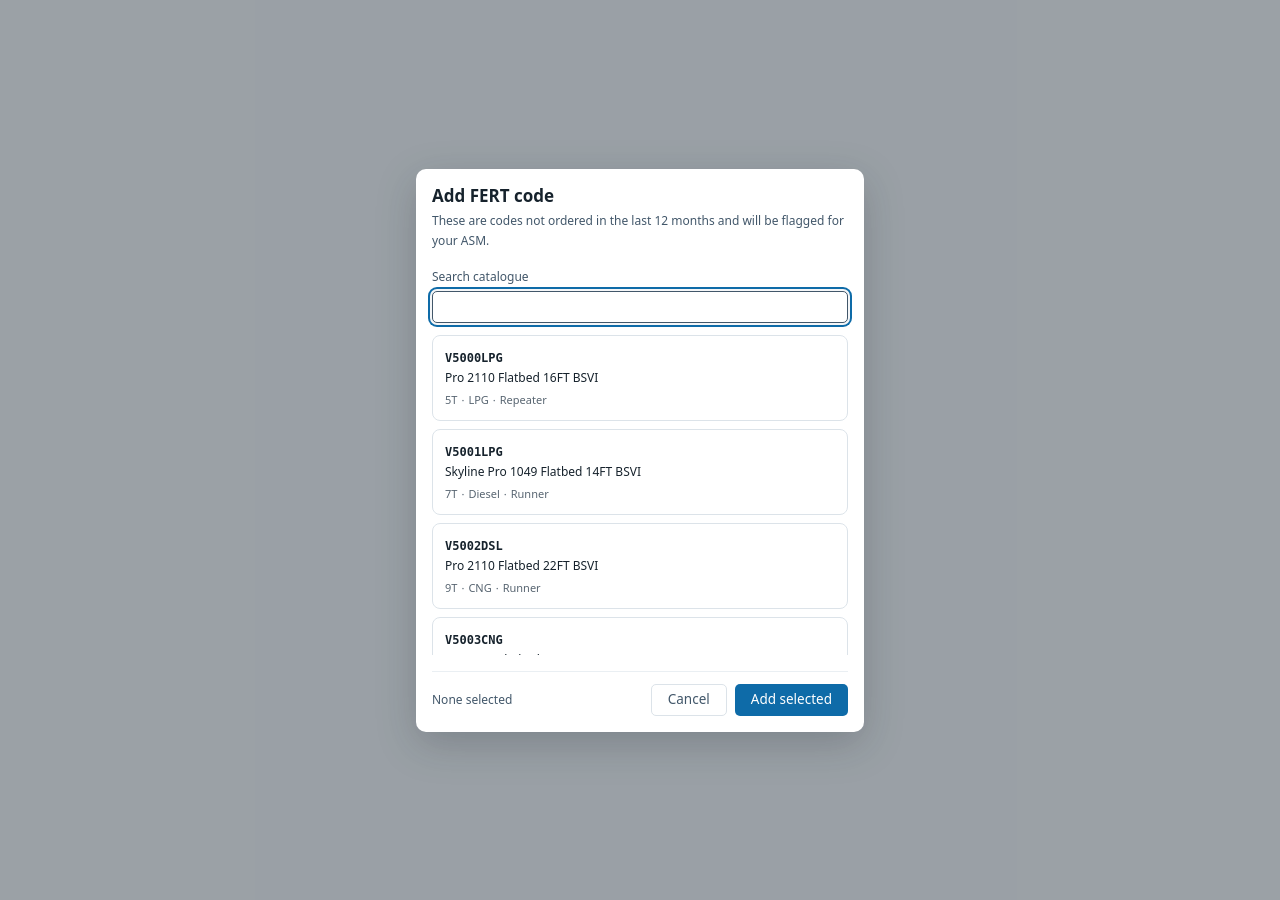
Test case: AddFertModal › toggles catalogue rows and updates the selected counter
Click the button "V5000LPG Pro 2110 Flatbed 16FT BSVI 5T · LPG · Repeater" at (474, 358), box [432, 334, 848, 420]
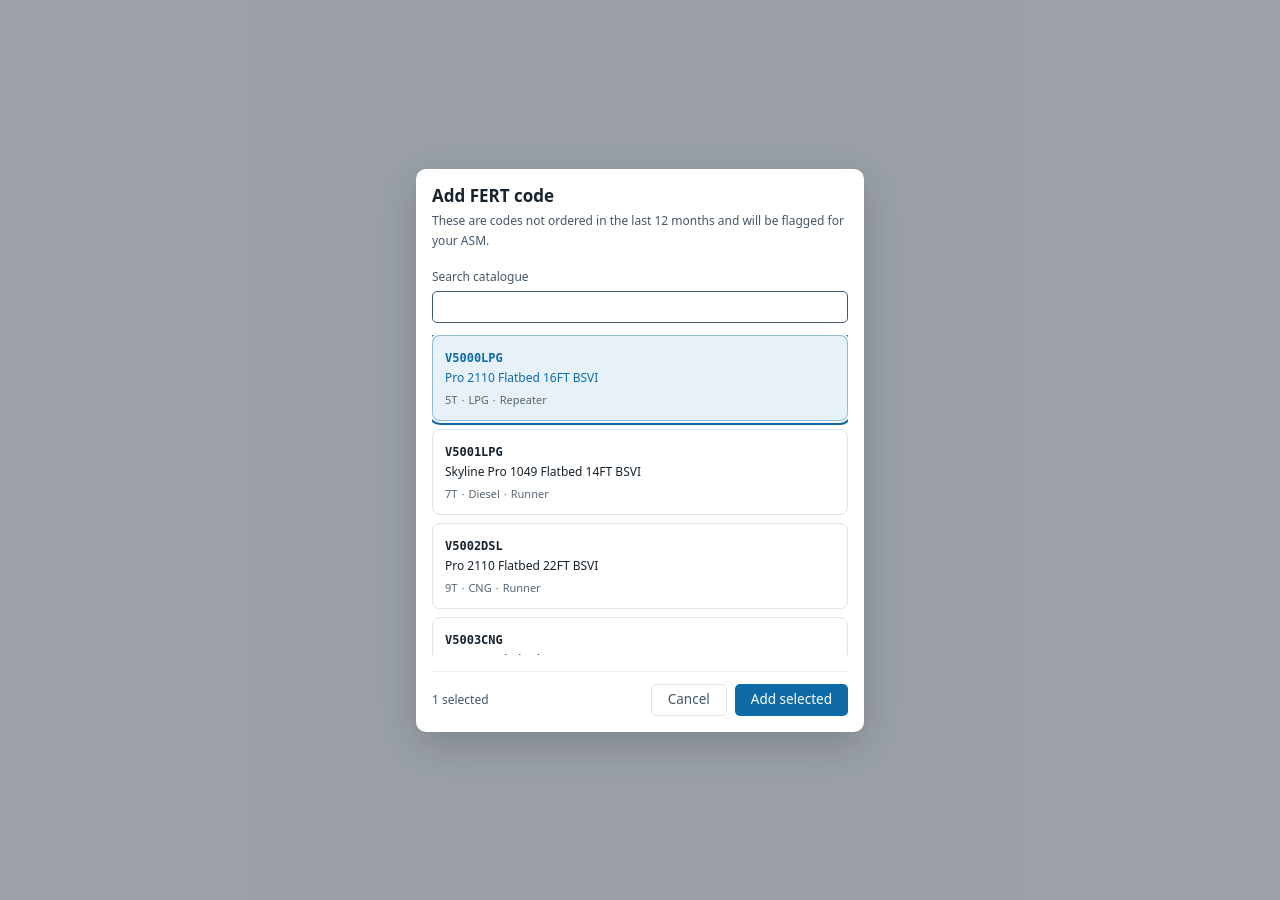
Expected: the text "1 selected" is shown, [432, 690, 489, 710]
Click the button "V5000LPG Pro 2110 Flatbed 16FT BSVI 5T · LPG · Repeater" at (474, 358), box [432, 334, 848, 420]
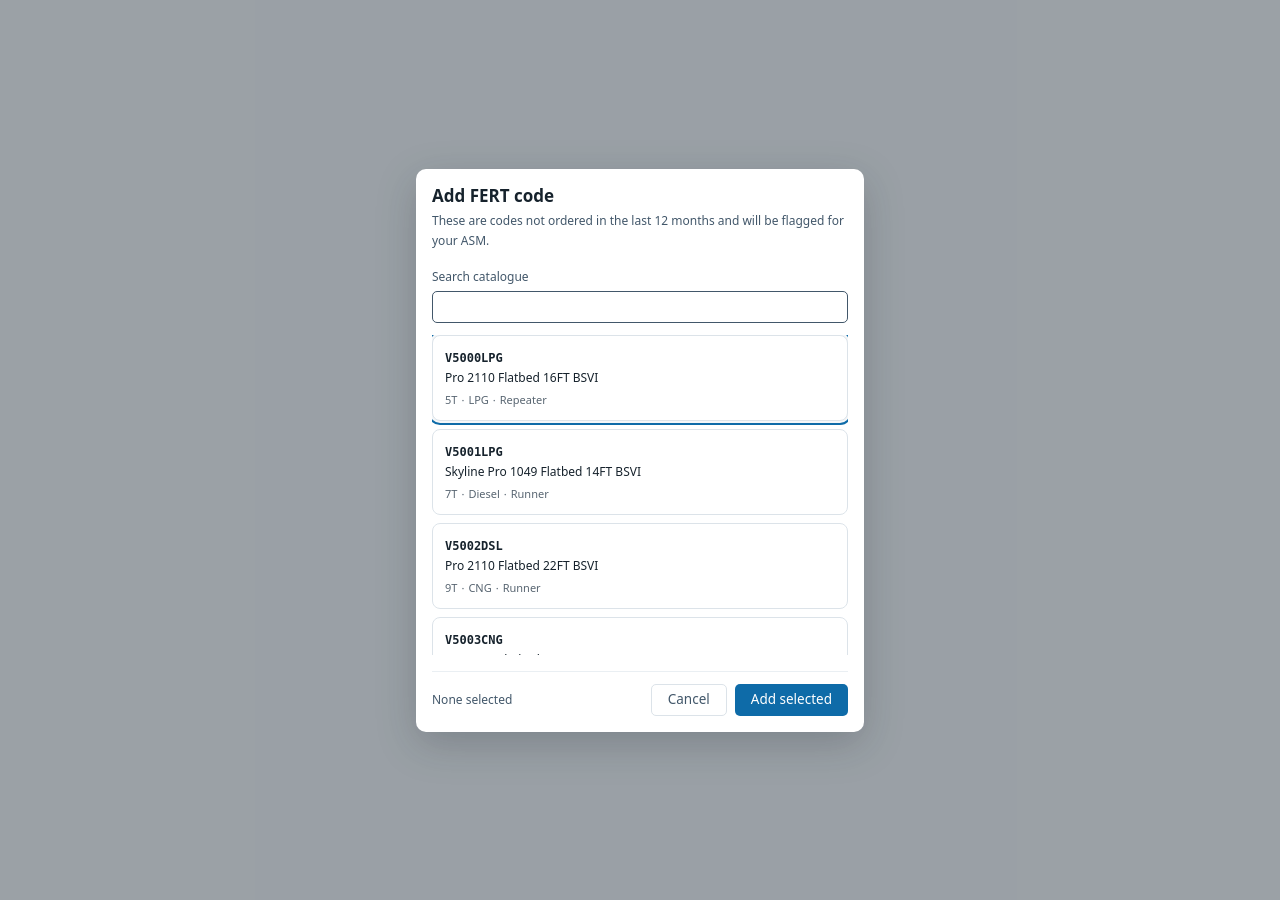
Expected: the text "None selected" is shown, [432, 690, 512, 710]
